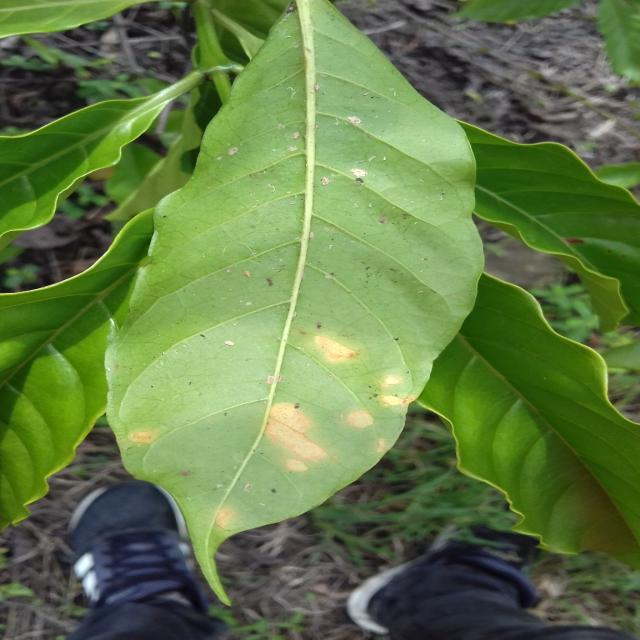Enfermedad-Roya: (105, 0, 485, 601)
